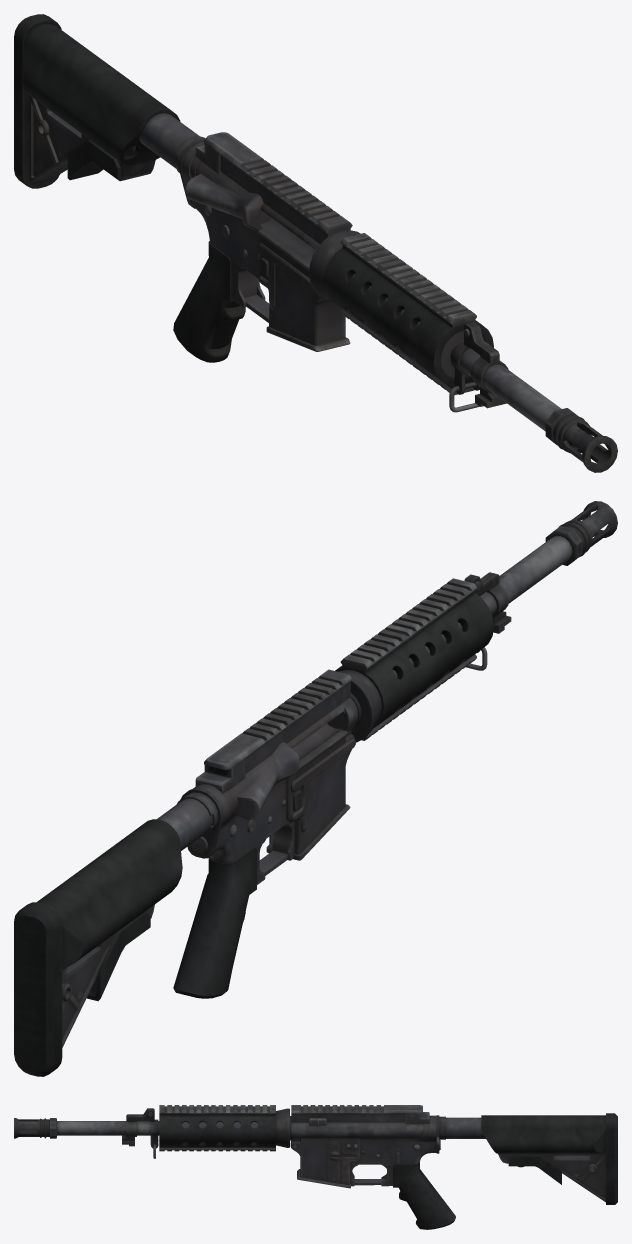
File: gun.gltf
The picture shows the model from 3 angles, top to bottom: view 1: azimuth 30°, elevation 25°; view 2: azimuth 150°, elevation 25°; view 3: azimuth 270°, elevation 25°; orthographic projection. The views are drawn at different scales.
Parts seen in each view (by area): view 1: base; view 2: base; view 3: base.
Part boxes in pixels (x1,y1,x2,y2): base: [14, 14, 617, 472]; base: [14, 501, 617, 1076]; base: [14, 1105, 617, 1229].
Bounding box in the file's own units: 7.09 × 22.02 × 101.
1 material, 1 textured.
